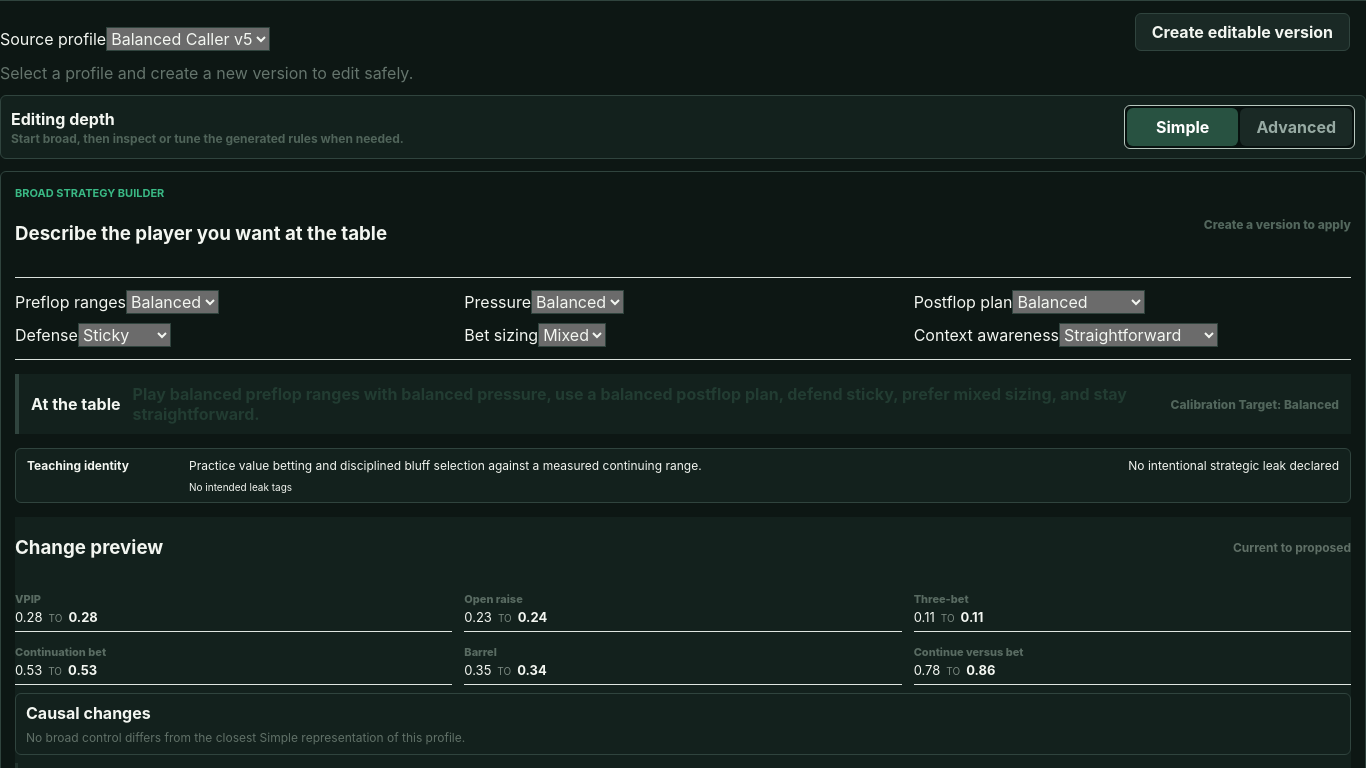
Test: Admin strategy workspace › shows a deterministic simulator trace from the selected strategy
Click the button "Advanced" at (1296, 127), box [1240,108,1352,146]
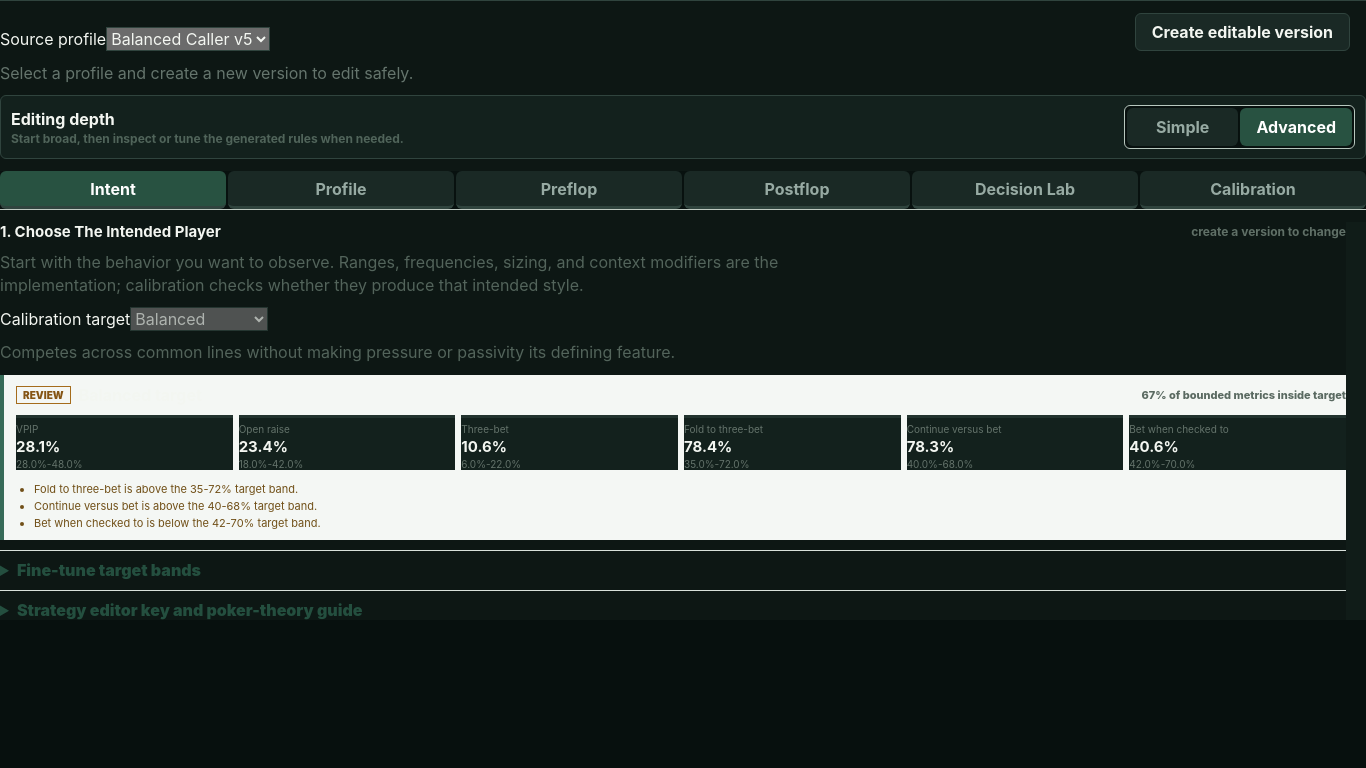
Click the tab "Decision Lab" at (1025, 190), box [912,171,1138,209]
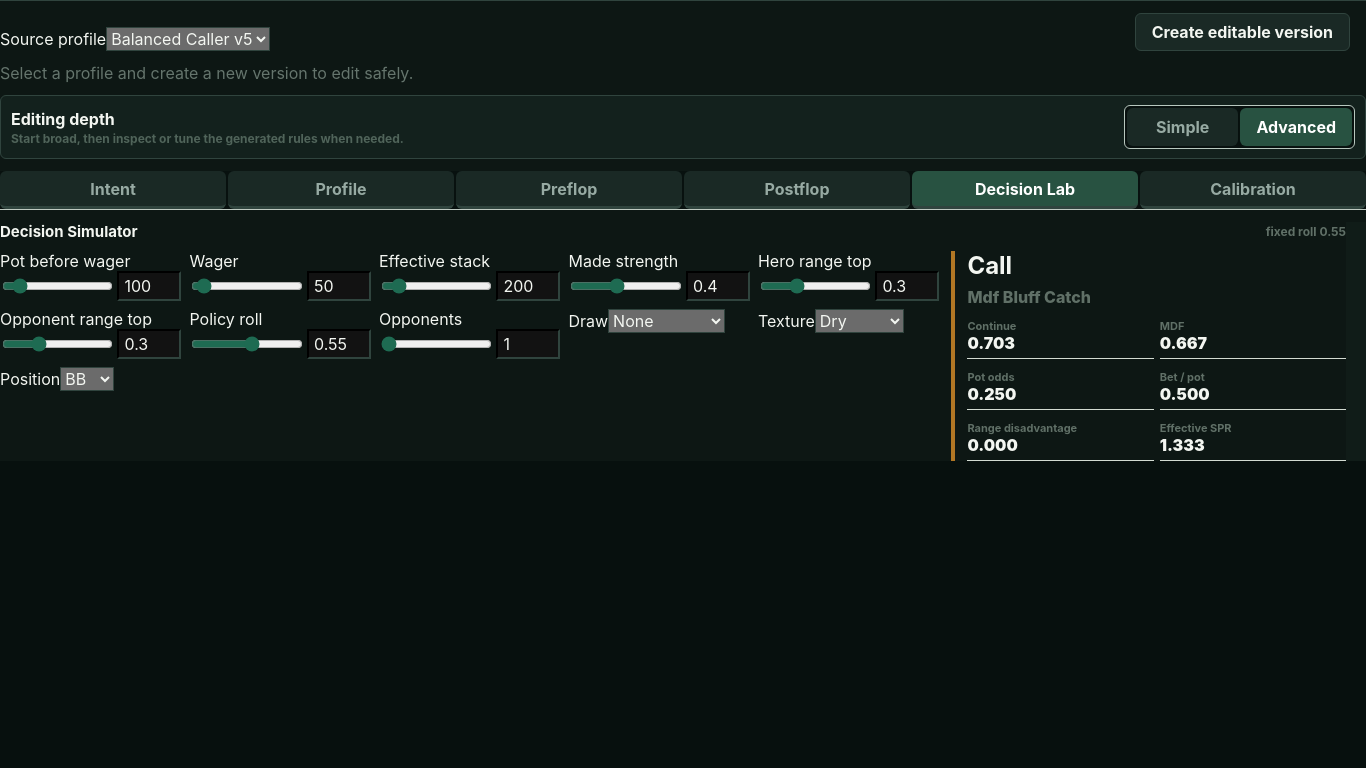
Check: the element named "NPC decision simulator" shows "MDF", box [1160,319,1184,333]
Check: the element named "NPC decision simulator" shows "Pot odds", box [967,370,1015,384]
